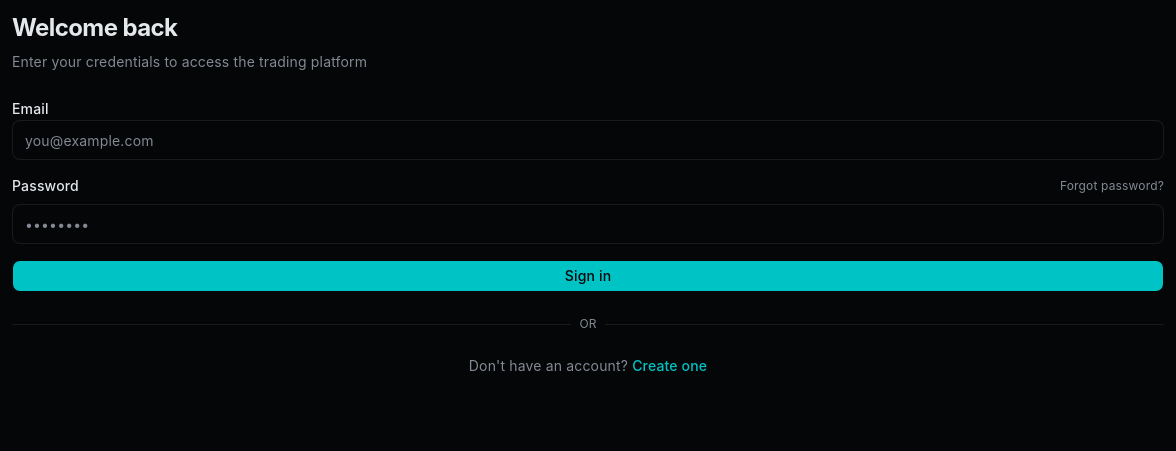
LoginPage › shows error on invalid credentials
Step 1. Type "user@test.com" into the field labelled "Email" → (588, 140), box x1=12 y1=120 x2=1164 y2=160
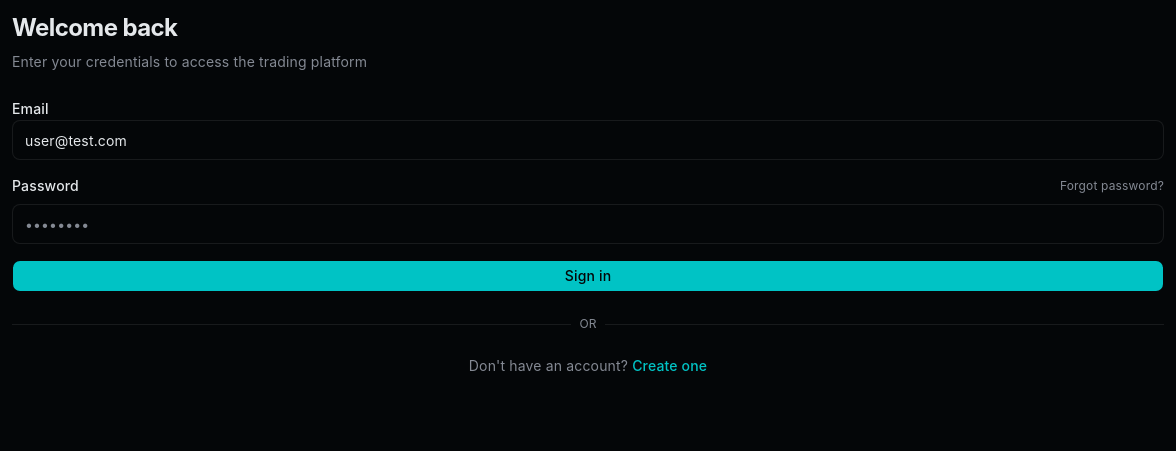
Step 2. Type "password123" into the password field labelled "Password" → (588, 224), box x1=12 y1=204 x2=1164 y2=244
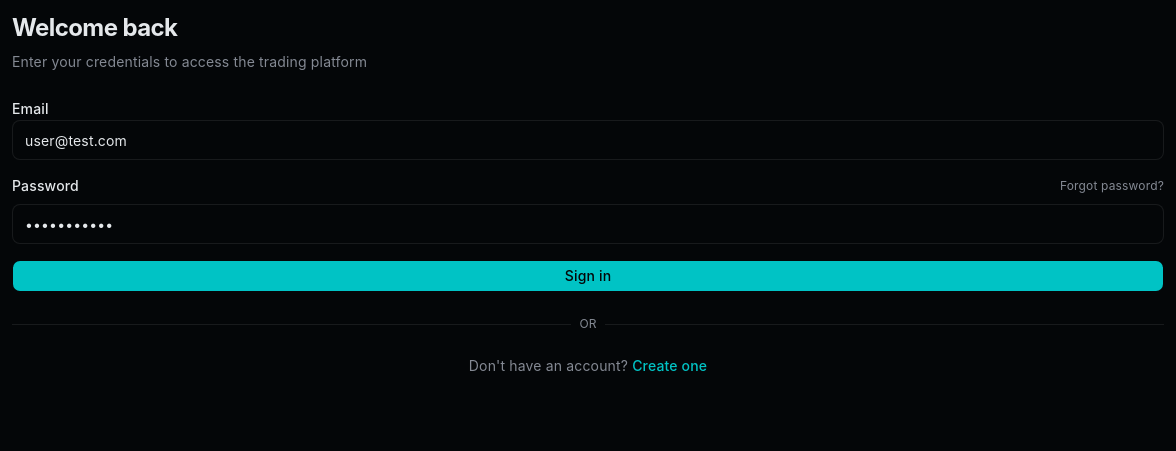
Step 3. Click the button "Sign in" → (588, 276), box x1=12 y1=260 x2=1164 y2=292
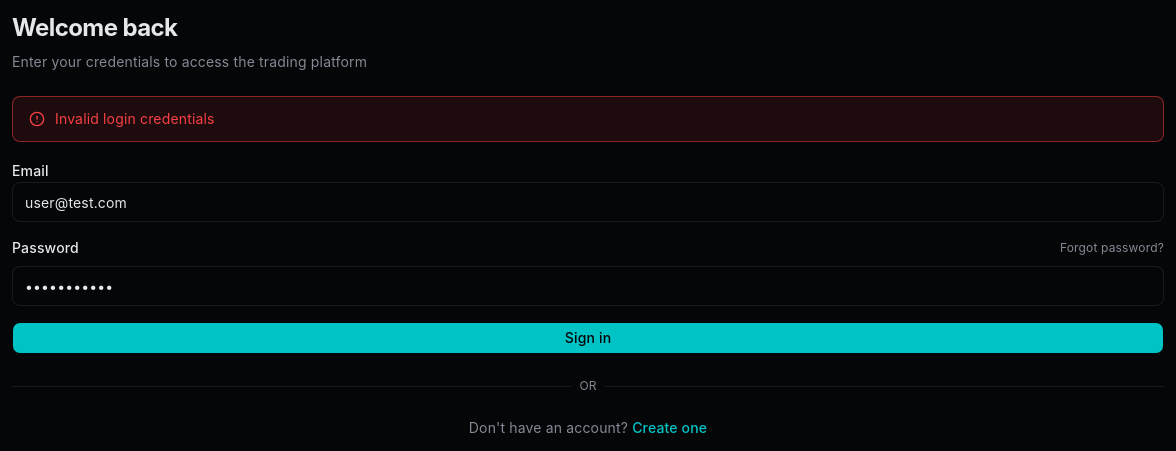
Now the text "Invalid login credentials" is shown, box x1=55 y1=109 x2=215 y2=129
